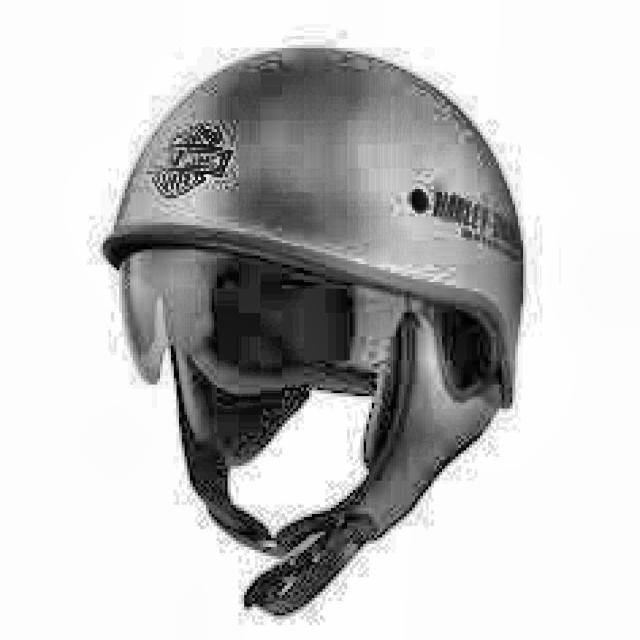Helmet: (101, 44, 538, 620)
